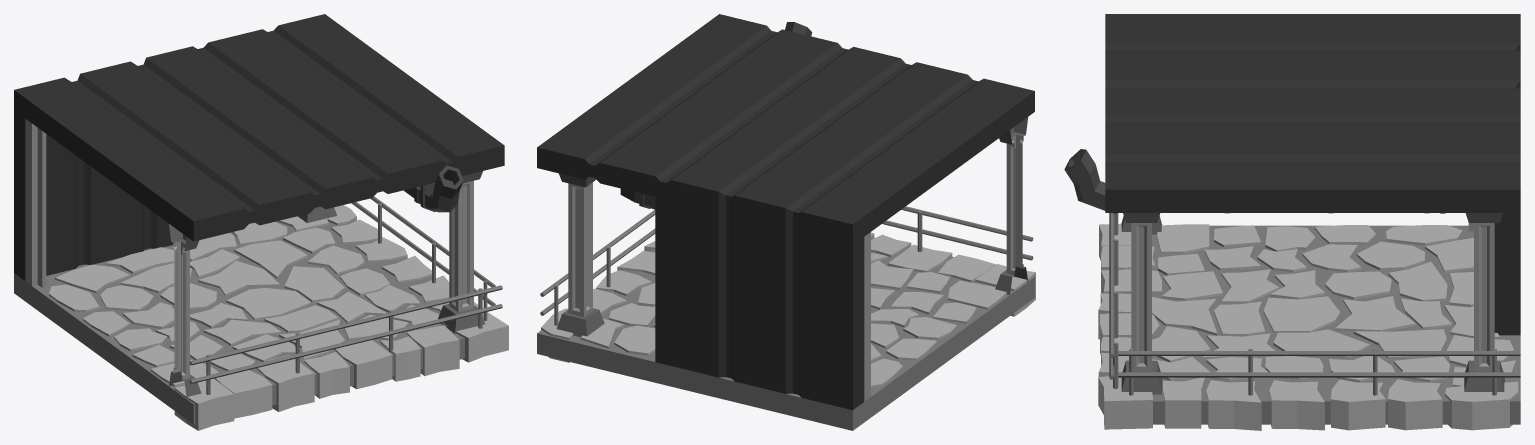
File: CoalGenerator_Level_01_CornerRight.fbx
3 renders of one model, left to right at view 1: azimuth 30°, elevation 25°; view 2: azimuth 150°, elevation 25°; view 3: azimuth 270°, elevation 25°, orthographic. The views are drawn at different scales.
Visible parts, largest first — view 1: CoalGenerator_Level_01_CornerRight; view 2: CoalGenerator_Level_01_CornerRight; view 3: CoalGenerator_Level_01_CornerRight.
Part boxes in pixels (x1,y1,x2,y2): CoalGenerator_Level_01_CornerRight: [14, 14, 508, 430]; CoalGenerator_Level_01_CornerRight: [537, 14, 1035, 430]; CoalGenerator_Level_01_CornerRight: [1064, 14, 1520, 430].
Size of the model in its own units: 817 by 521 by 879.
